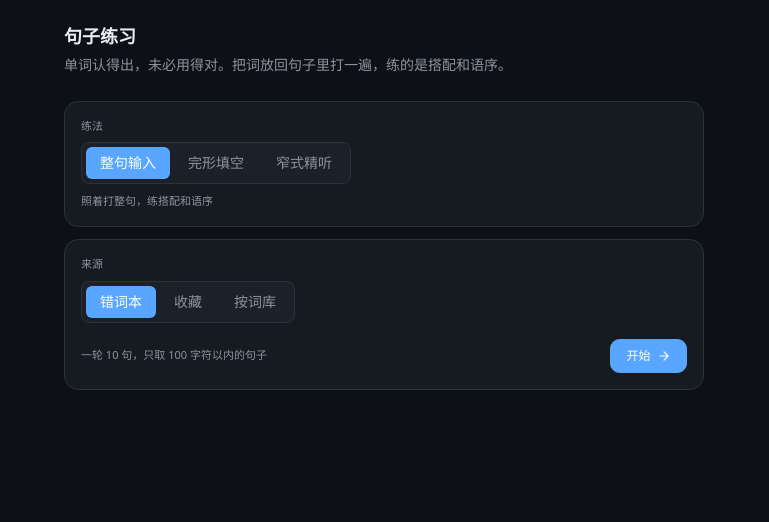
Test: SentencesPage · 完形模式 › 填对时判定完全正确
This screenshot has width=769, height=522.
Click the button "按词库": (255, 302) [220,286,290,318]
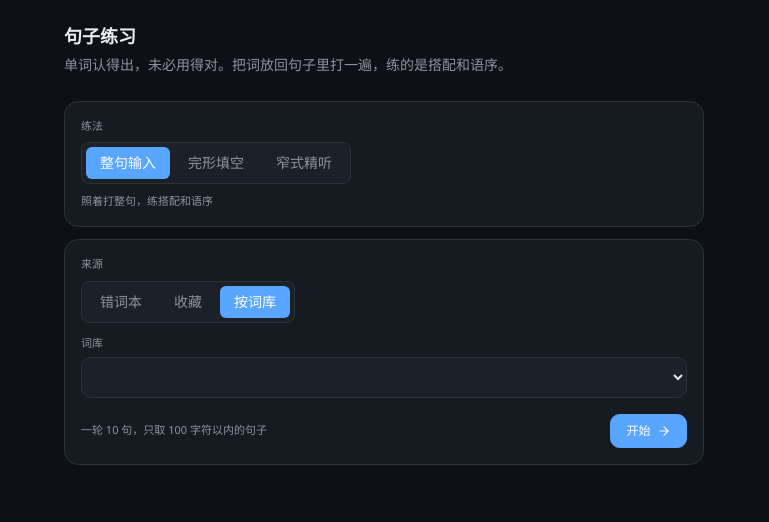
Click the button "完形填空": (216, 163) [174,147,258,179]
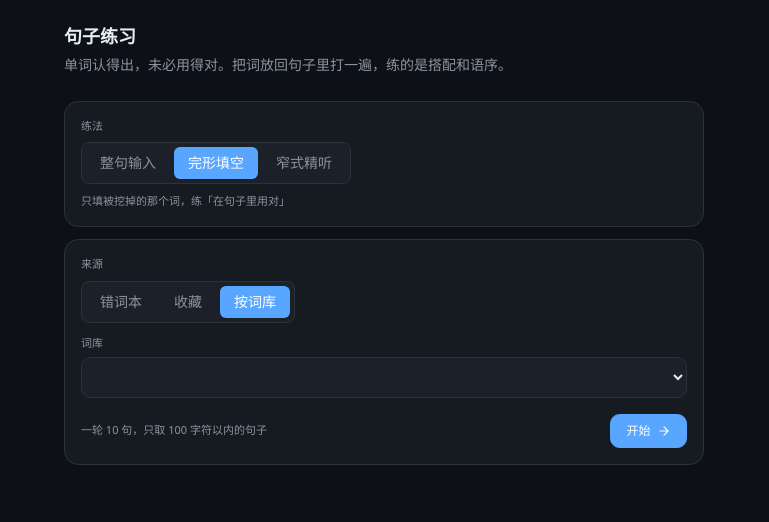
Click the button "开始": (649, 431) [610,414,687,448]
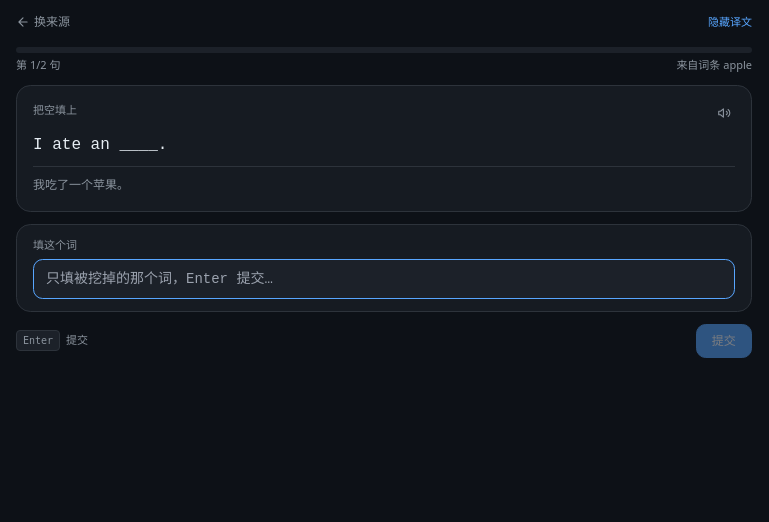
Result: the text "第 1/2 句" is shown at [16,56,60,73]
In the field named "填空答案": (384, 279) [33,259,735,299], type "apple"
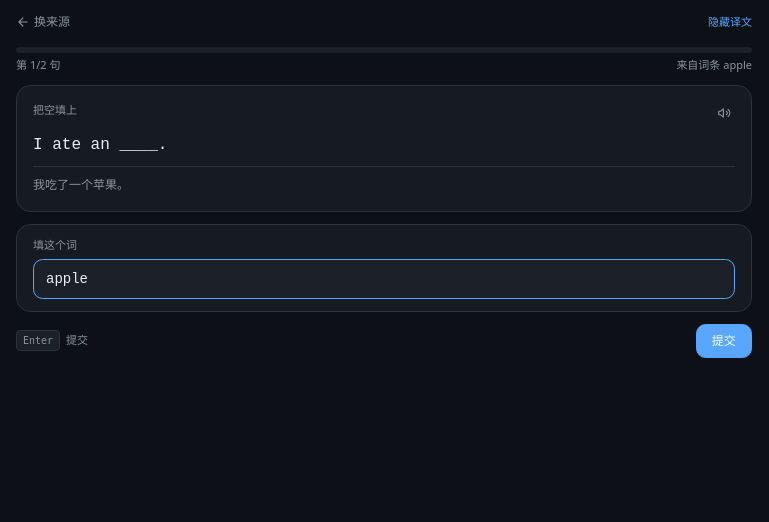
Press Enter in the field named "填空答案", box [33,259,735,299]
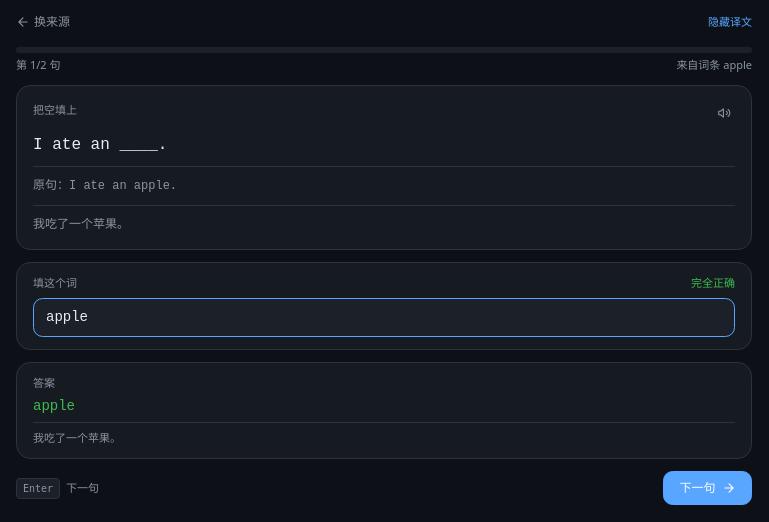
Result: the text "完全正确" is shown at [691,275,735,292]
